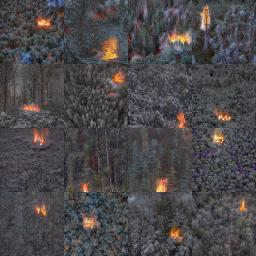Small fire: (165, 28, 200, 50), (97, 38, 124, 63), (35, 10, 54, 35), (30, 128, 51, 148), (176, 111, 187, 132), (155, 175, 168, 191), (85, 216, 100, 227)
